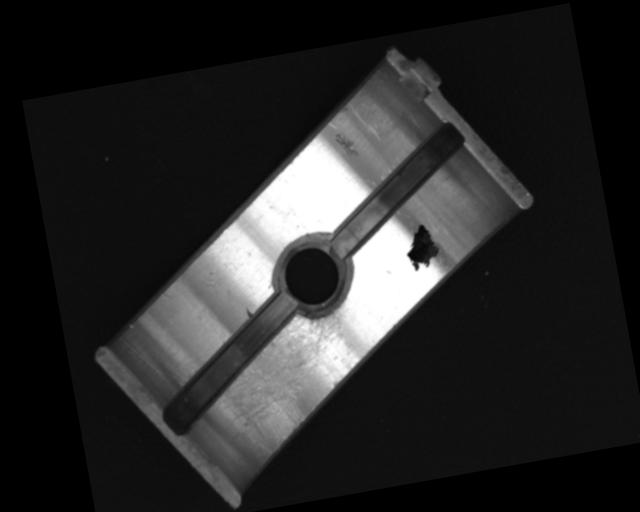blot: (401, 220, 443, 272)
bruise: (332, 129, 363, 162), (244, 305, 255, 319)
gap: (146, 290, 316, 435), (318, 122, 479, 256)
hole: (270, 234, 357, 319)
scratch: (207, 300, 365, 447)
